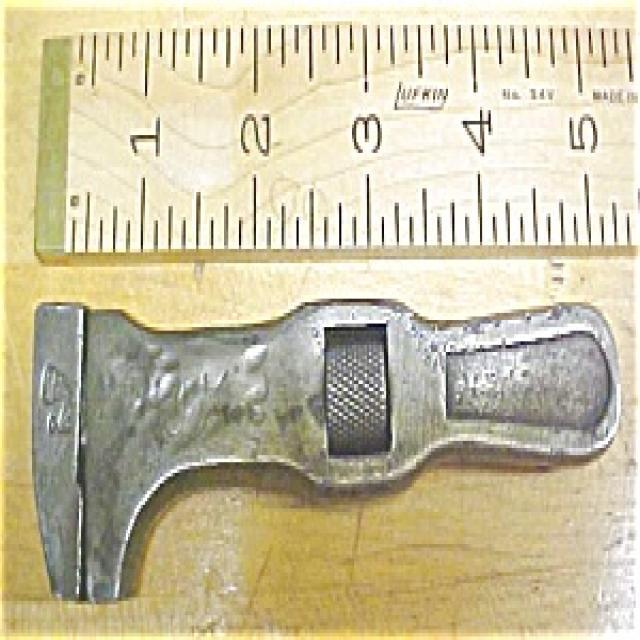wrench: (21, 280, 630, 610)
